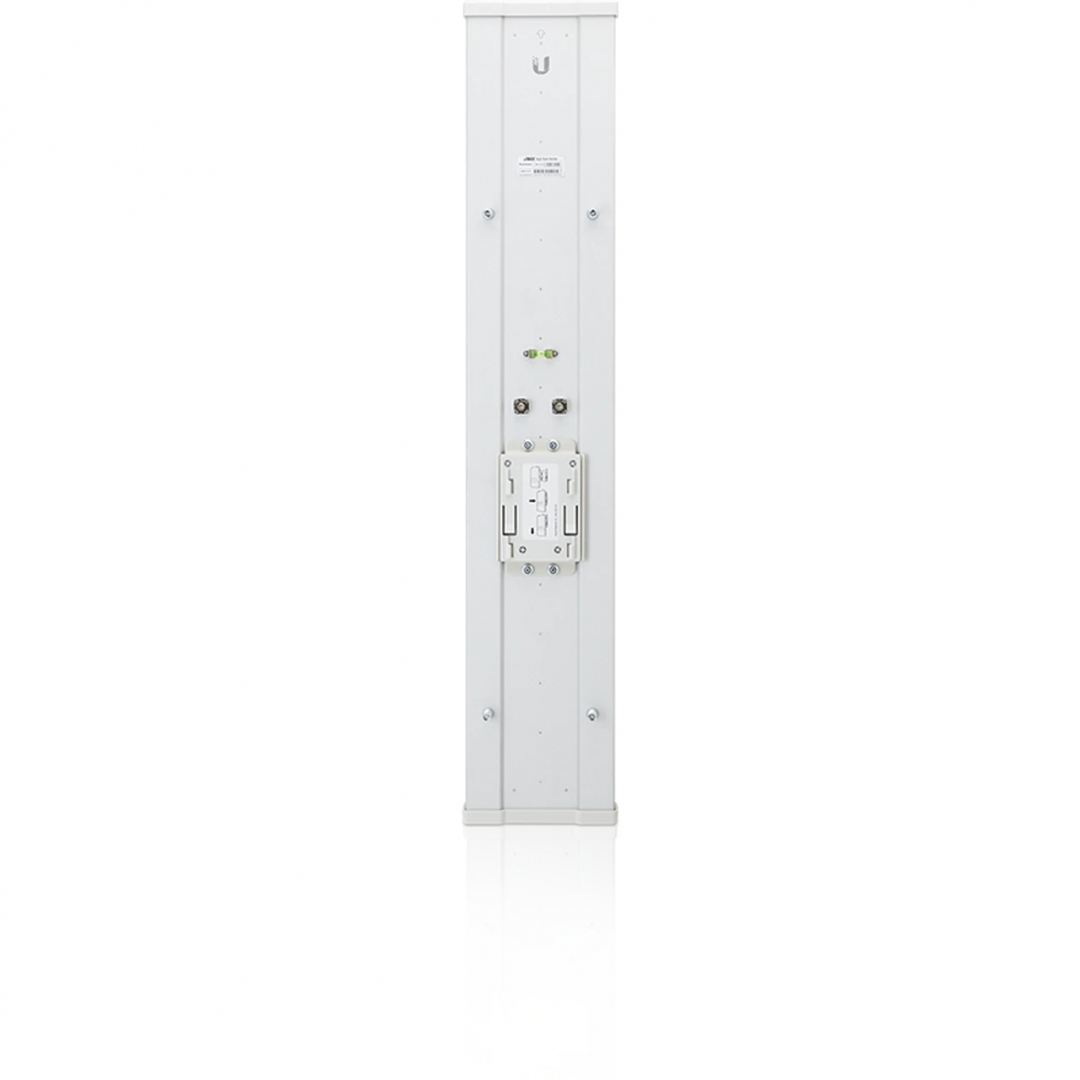sa: (411, 14, 657, 873)
